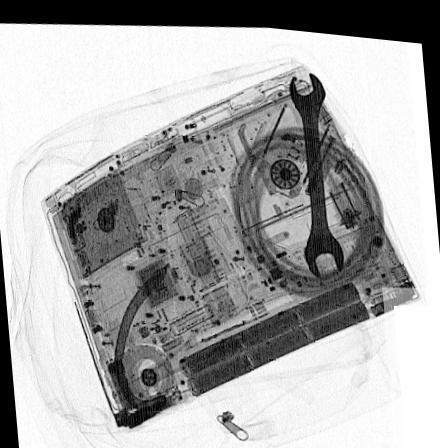Wrench: (288, 65, 345, 274)
